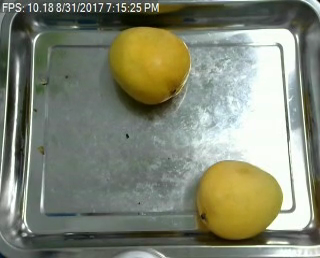Mango: (192, 157, 284, 240), (108, 27, 192, 106)
